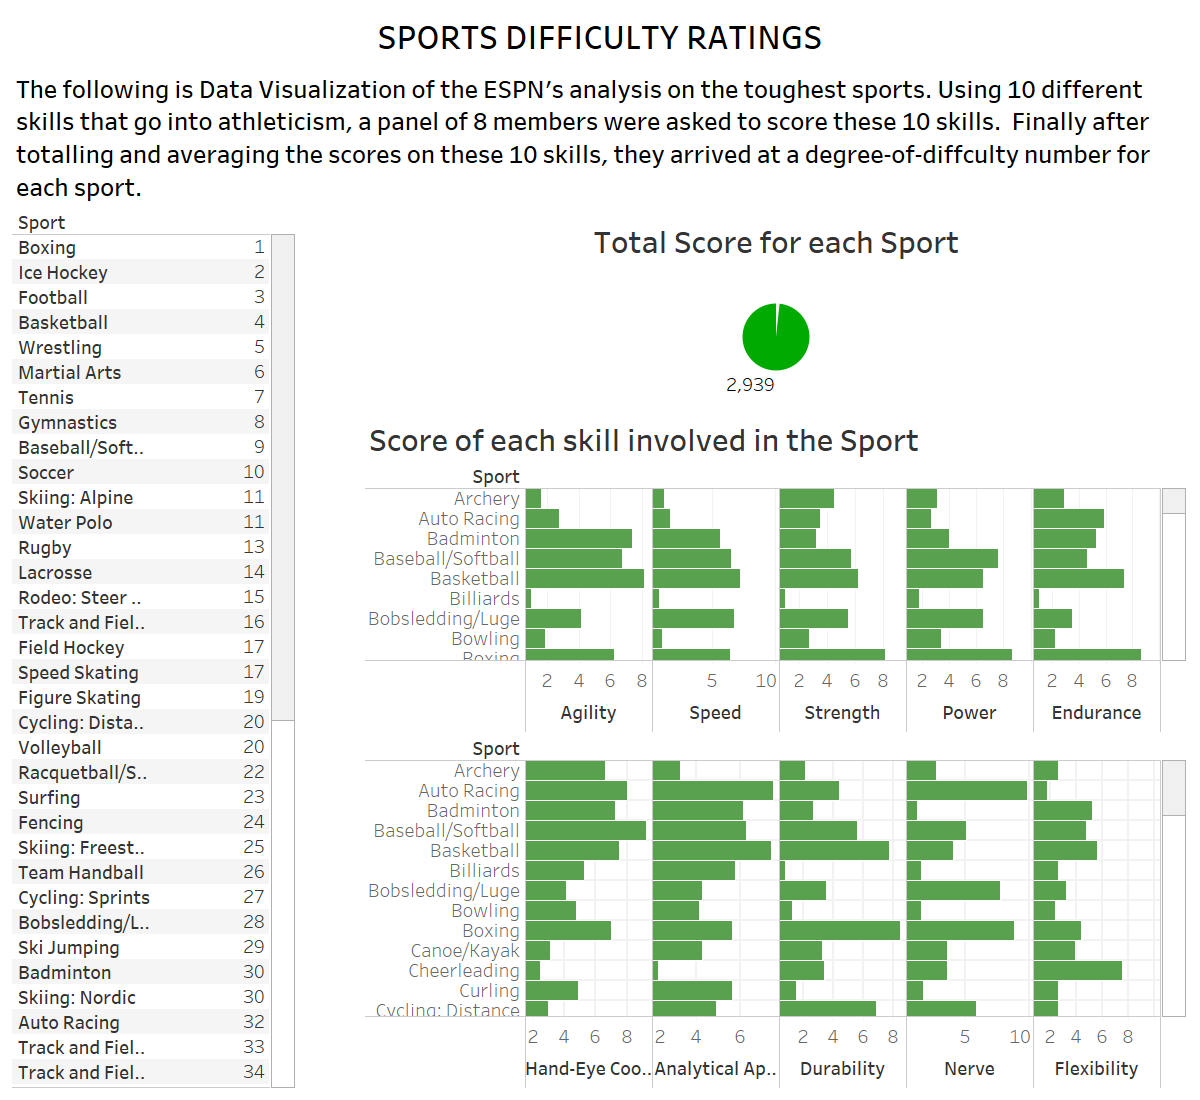

This screenshot's page, from the dashboard's own definition file:
{"tool":"tableau","page":{"name":"Dashboard 1","canvas":[1200,1100],"ordinal":0},"visuals":[{"type":"text","box":[8,8,1184,57.4]},{"type":"text","box":[8,65.4,1184,144.6]},{"type":"worksheet","title":"ranking and sport","mark":"Automatic","rows":["Sport"],"box":[8,210,353,882]},{"type":"worksheet","title":"Pie","mark":"Pie","box":[361,210,831,198.3]},{"type":"worksheet","title":"feature set 1","mark":"Bar","rows":["Sport"],"cols":["Agility","Speed","Strength","Power","Endurance"],"box":[361,408.3,831,327.7]},{"type":"worksheet","title":"feature set 2","mark":"Bar","rows":["Sport"],"cols":["Hand-Eye Coordination","Analytical Aptitude","Durability","Nerve","Flexibility"],"box":[361,736,831,356]}]}

Visuals, with their boxes in screenshot pixels (x1, y1, x2, y2), scaled from the page's 1200x1100 canvas onto the 1200x1100 screenshot:
text: 8,8,1192,65
text: 8,65,1192,210
"ranking and sport" worksheet: 8,210,361,1092
"Pie" worksheet (Pie marks): 361,210,1192,408
"feature set 1" worksheet (Bar marks): 361,408,1192,736
"feature set 2" worksheet (Bar marks): 361,736,1192,1092
